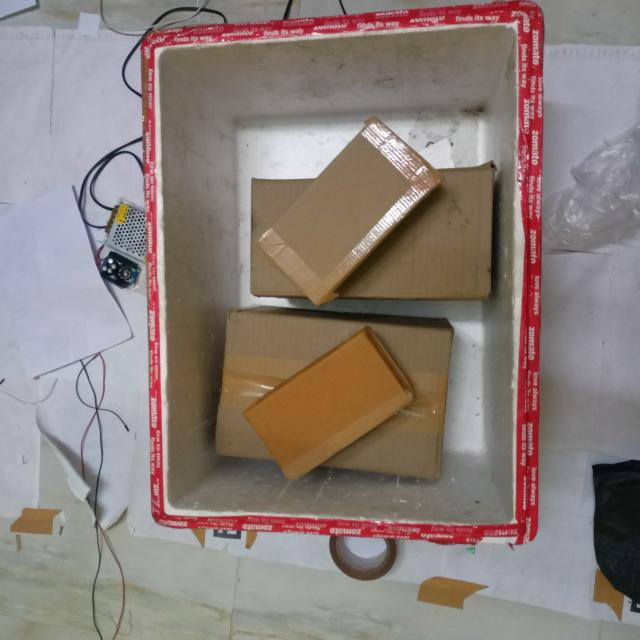box: (255, 119, 435, 303), (250, 339, 404, 482)
